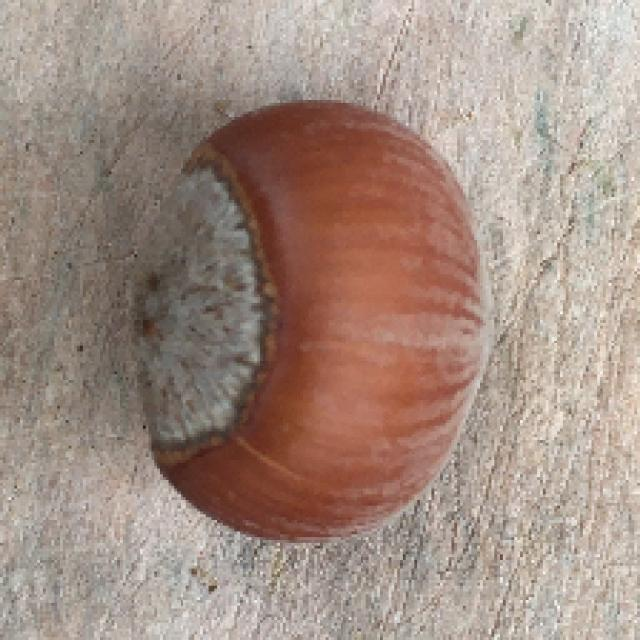QualityHazelnut: (127, 102, 495, 546)
